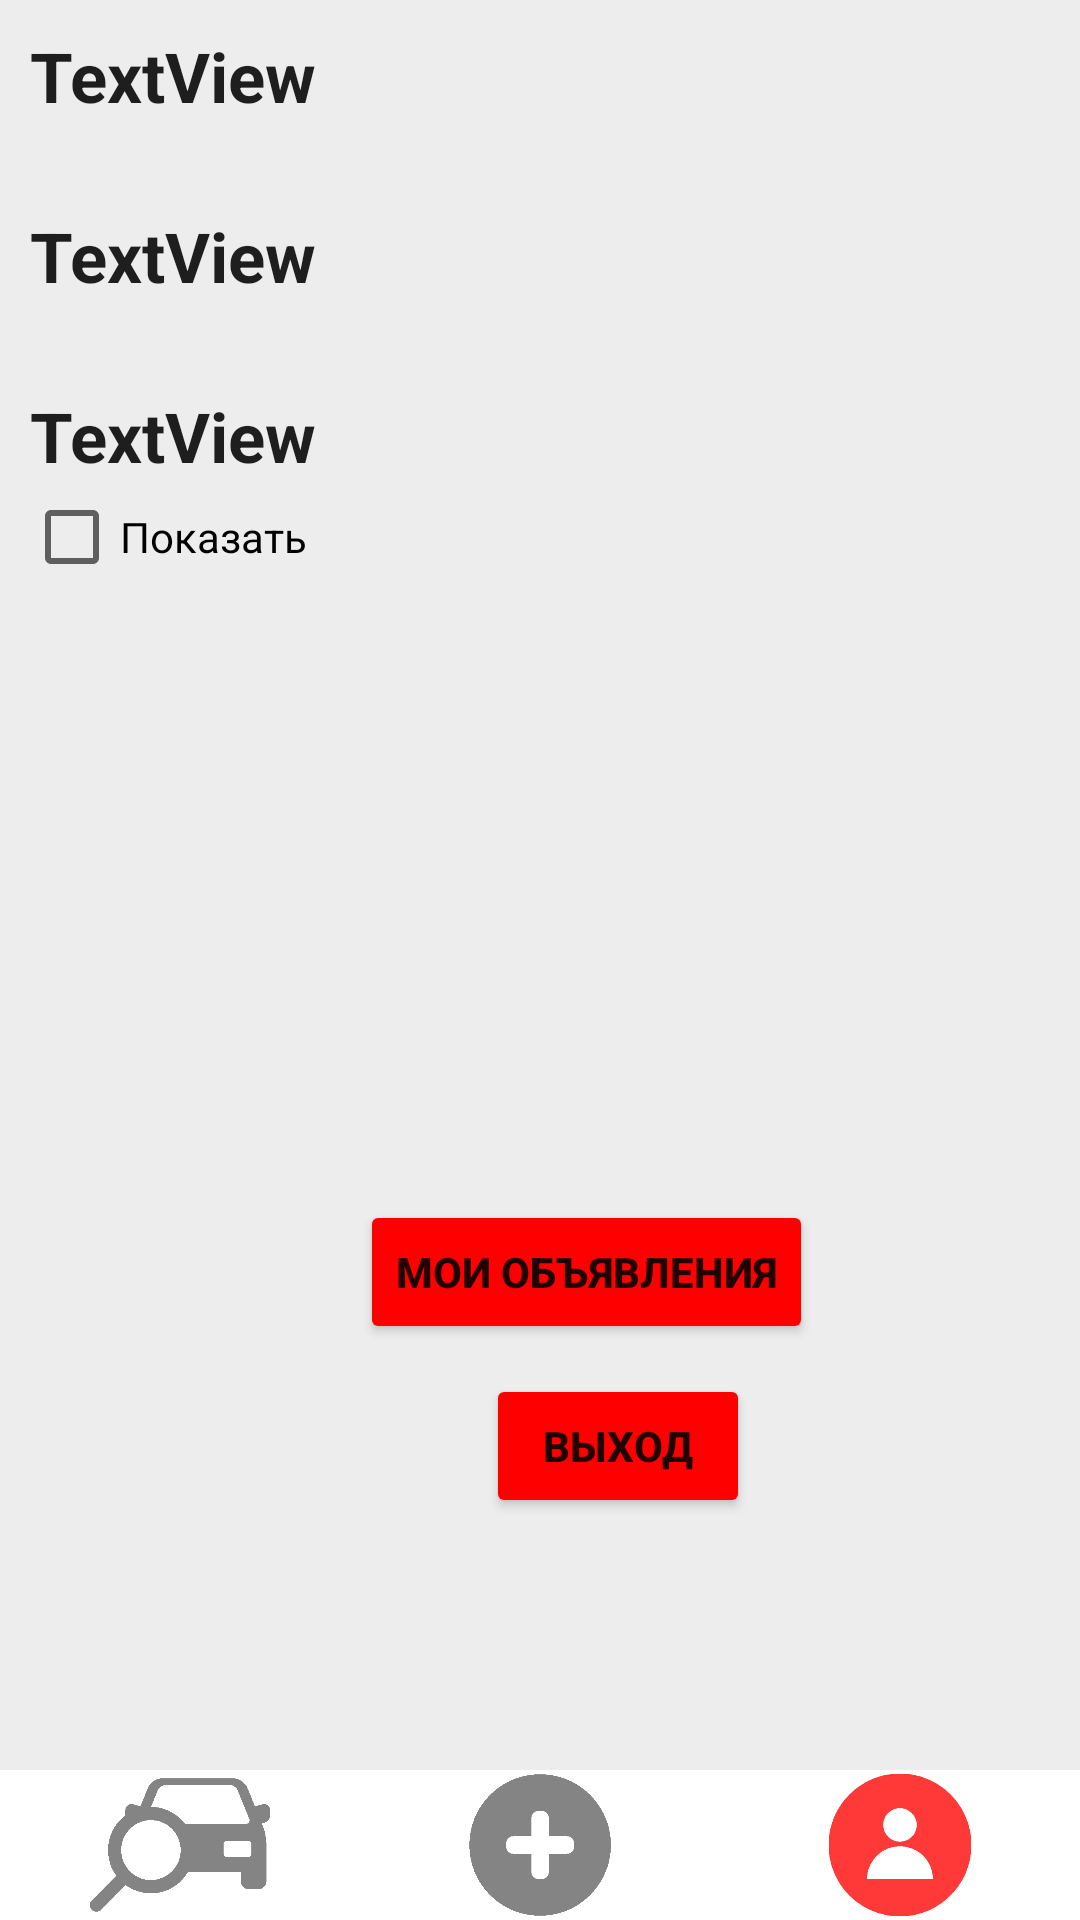

Icons on this 1080px x 1920px Android screen, each with its box as (x1, y1, x2, y2):
addcarimgnoactive: (469, 1774, 611, 1916)
